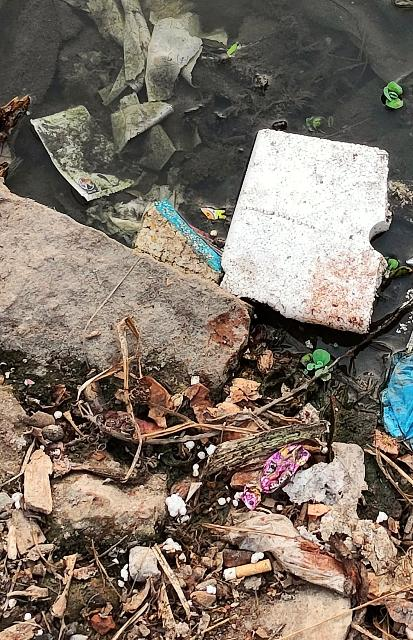cocksheet: (218, 117, 398, 331)
